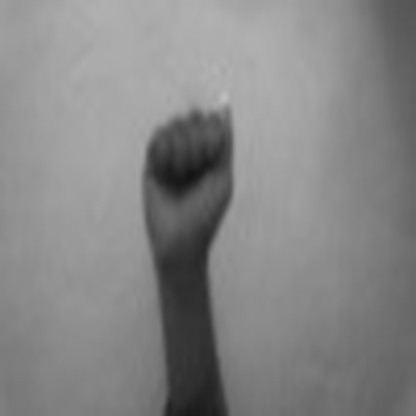a: (134, 93, 245, 257)
